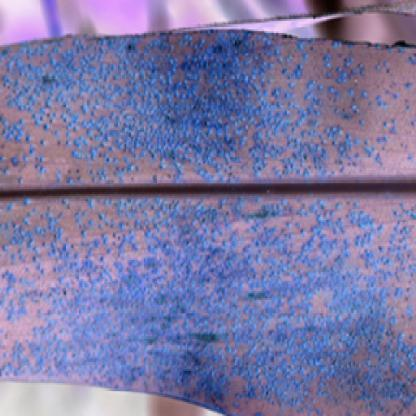Corn rust leaf: (1, 3, 414, 414)
